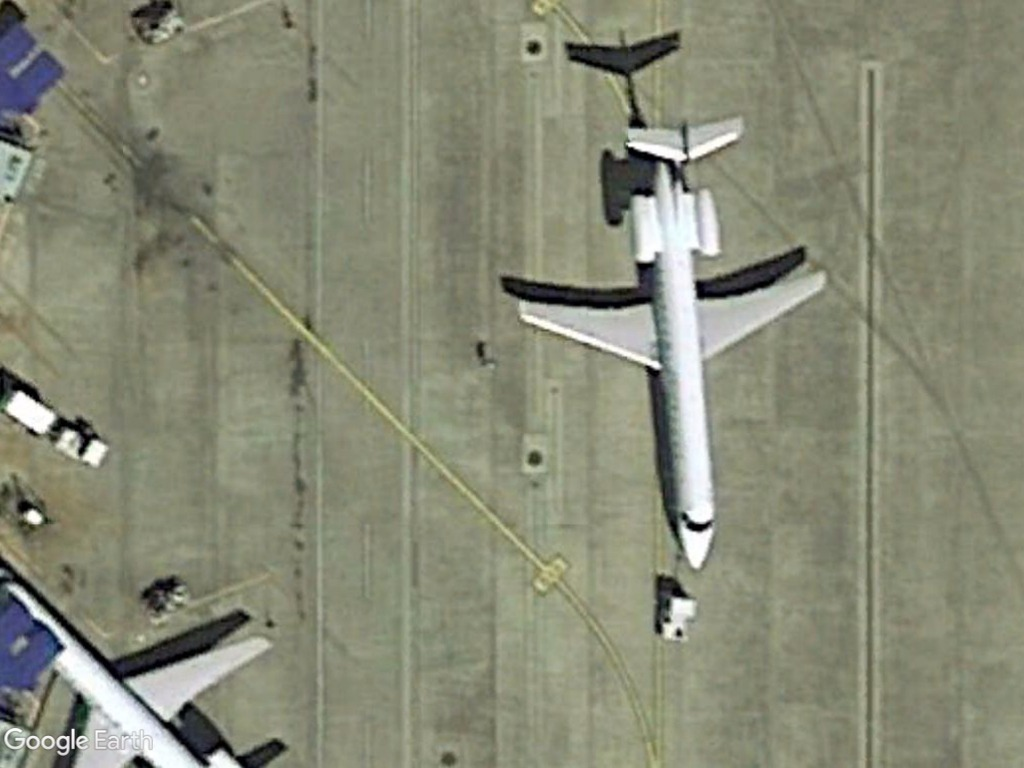chartered: (513, 120, 830, 576)
